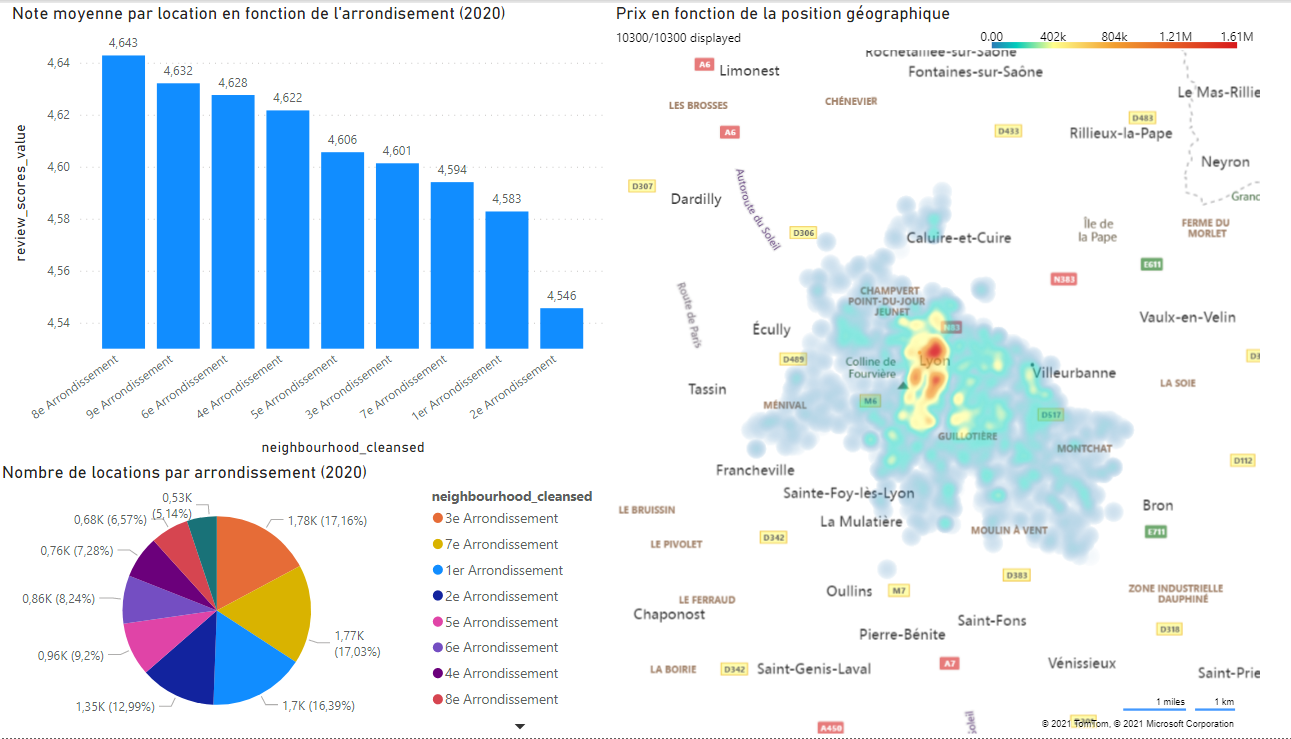

What the dashboard file says about the page in this screenshot:
{"tool":"powerbi","page":{"name":"Airbnb","canvas":[1280,720],"ordinal":2},"visuals":[{"type":"clusteredColumnChart","title":"Note moyenne par location en fonction de l''arrondisement (2020)","fields":{"Category":["airbnb.neighbourhood_cleansed"],"Y":["Avg(airbnb.review_scores_value)"]},"box":[10.1,0,591.3,448.5],"z":0},{"type":"pieChart","title":"Nombre de locations par arrondissement (2020)","fields":{"Y":["Count(airbnb.id)"],"Series":["airbnb.neighbourhood_cleansed"]},"box":[0,448.5,601.4,272.1],"z":1},{"type":"heatmapF244EA9EE1F34E828A80CF19B41976F8","title":"Prix en fonction de la position géographique","fields":{"latitude":["airbnb.latitude"],"longitude":["airbnb.longitude"],"value":["Avg(airbnb.price)"]},"box":[601.4,0,640,720.6],"z":2}]}

Visuals, with their boxes in screenshot pixels (x1, y1, x2, y2), scaled from the page's 1280x720 canvas onto the 1291x739 screenshot:
"Note moyenne par location en fonction de l''arrondisement (2020)" clusteredColumnChart: <bbox>10, 0, 607, 460</bbox>
"Nombre de locations par arrondissement (2020)" pieChart: <bbox>0, 460, 607, 738</bbox>
"Prix en fonction de la position géographique" heatmapF244EA9EE1F34E828A80CF19B41976F8: <bbox>607, 0, 1252, 738</bbox>
